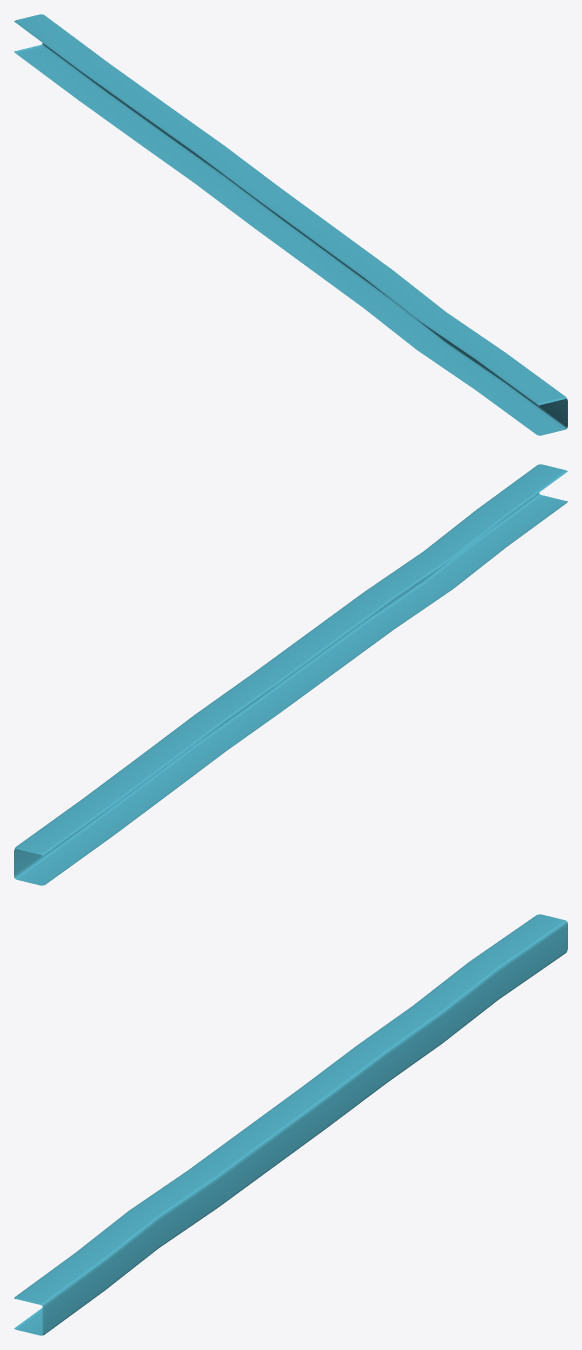
3 views of the same model, one above another, from view 1: azimuth 30°, elevation 25°; view 2: azimuth 150°, elevation 25°; view 3: azimuth 330°, elevation 25° (orthographic).
Parts seen in each view (by area): view 1: polySurface799; view 2: polySurface799; view 3: polySurface799.
Boxes of the visible parts, x1,y1,x2,y2 form: polySurface799: [14, 14, 567, 435]; polySurface799: [14, 464, 567, 885]; polySurface799: [14, 914, 567, 1335].
Bounding box in the file's own units: 0.2118 × 0.2071 × 5.77.
